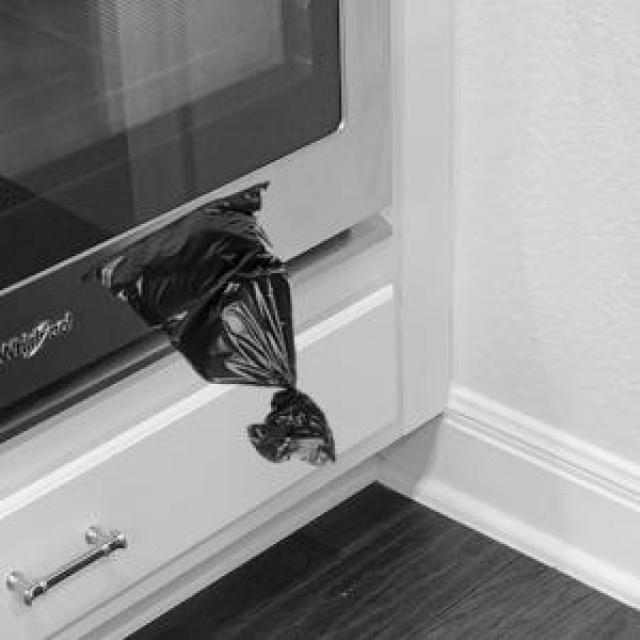miscellaneous trash: (75, 177, 331, 461)
